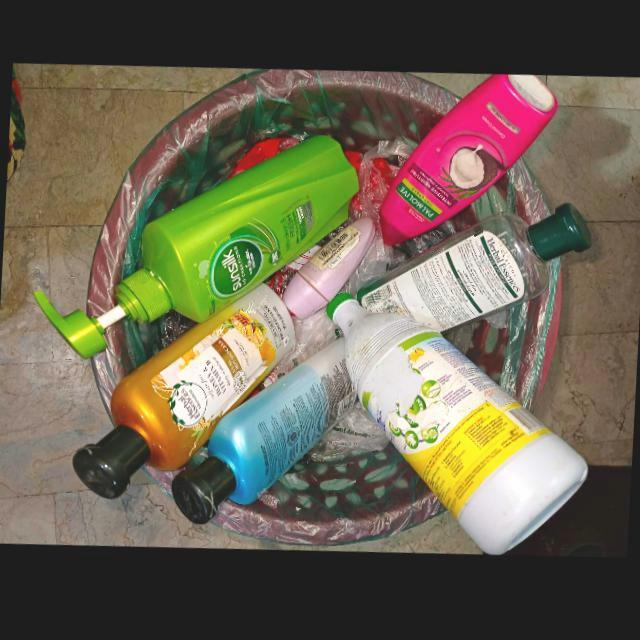plastic_bottle: (32, 138, 360, 360), (326, 294, 588, 558), (71, 286, 296, 500), (171, 340, 358, 526), (379, 77, 559, 249), (355, 207, 592, 335), (281, 220, 376, 322)
